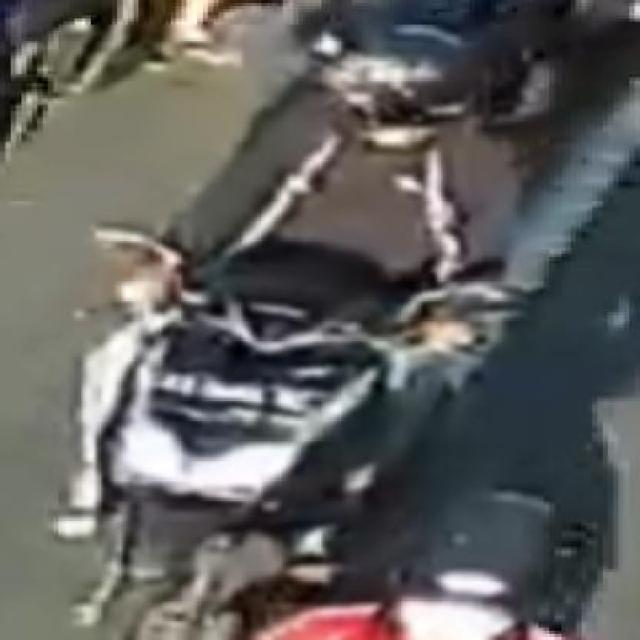helmet: (374, 487, 580, 640)
